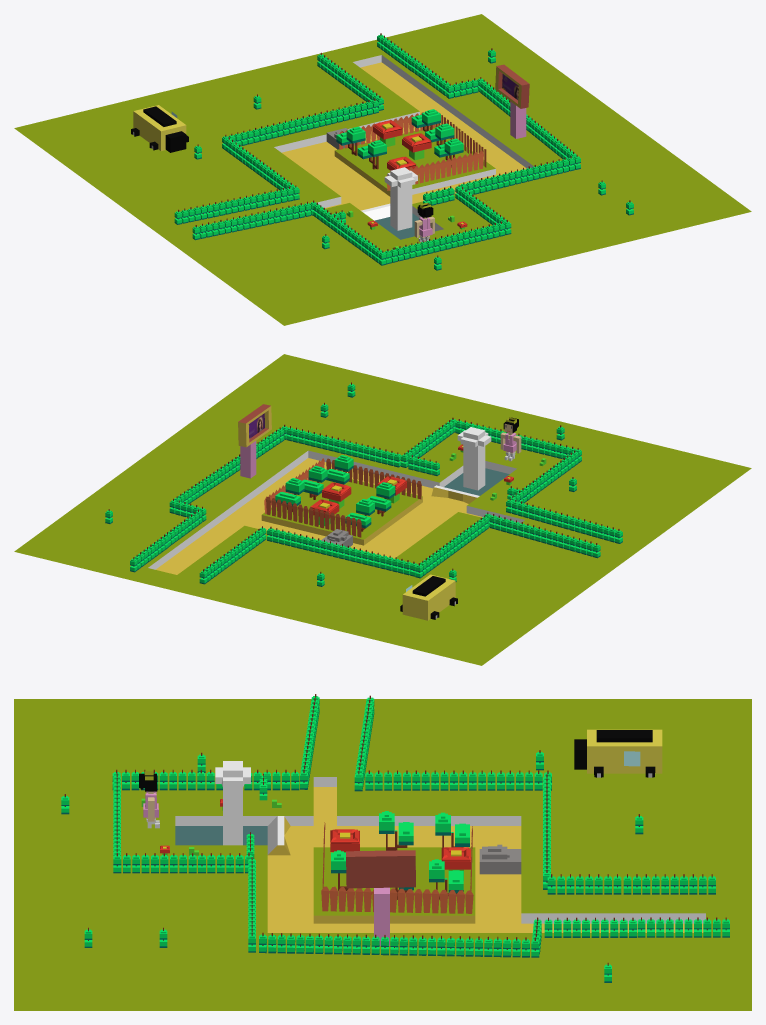
Rendered from portfolio.glb.
3 renders of one model, top to bottom at view 1: azimuth 30°, elevation 25°; view 2: azimuth 150°, elevation 25°; view 3: azimuth 270°, elevation 25°, orthographic. The views are drawn at different scales.
Visible parts, largest first — view 1: car.285, board top, Shoes, board bottom; view 2: car.285, board top, Shoes, board bottom; view 3: car.285, board top, Shoes, board bottom.
Boxes of the visible parts, x1,y1,x2,y2 form: car.285: (14,14,751,325); board top: (495,64,529,108); Shoes: (414,202,434,242); board bottom: (510,101,526,138); car.285: (14,354,751,665); board top: (238,404,271,447); Shoes: (500,417,521,461); board bottom: (240,441,256,478); car.285: (14,694,751,1010); board top: (346,850,415,888); Shoes: (139,771,159,828); board bottom: (374,887,389,945).
Size of the model in its own units: 600 by 88.18 by 600.
Materials: 25 (1 with a texture image).
